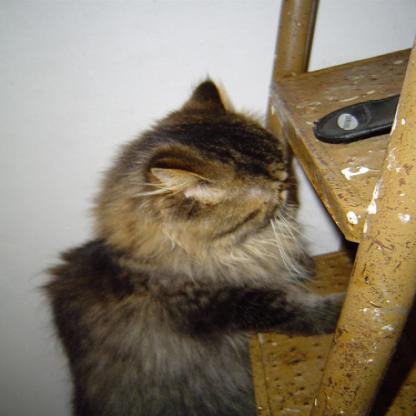cat: (51, 78, 347, 415)
